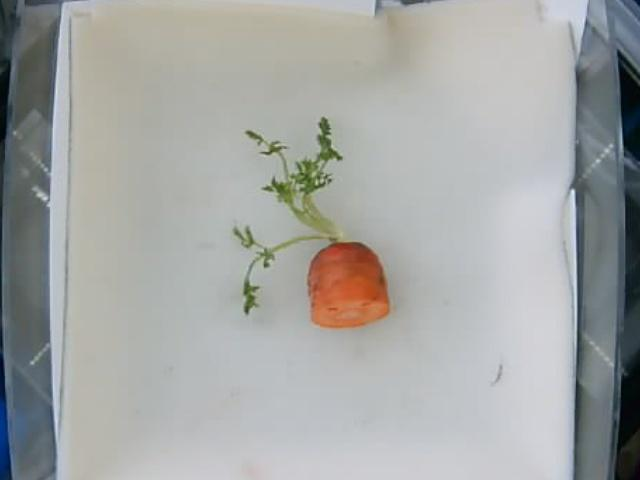Carrot: (236, 118, 389, 328)
